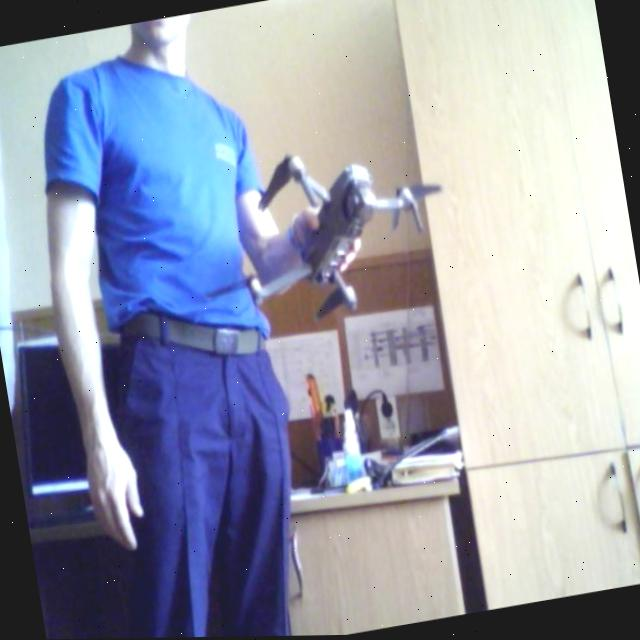drone: (214, 113, 466, 361)
